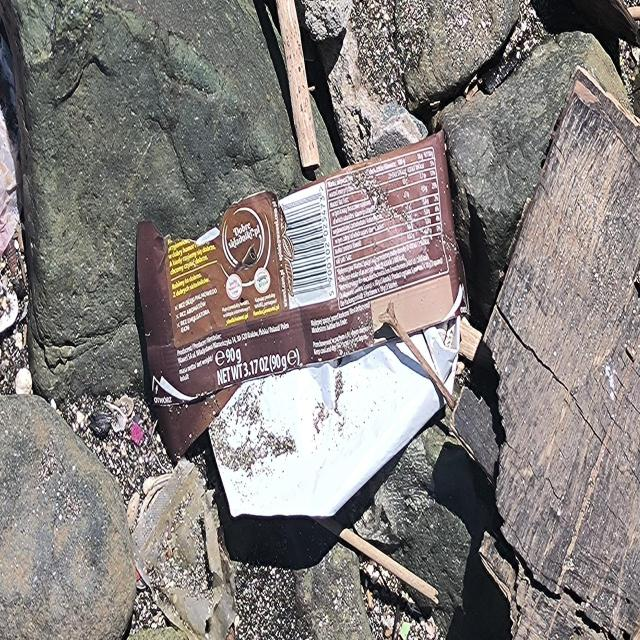plastic_waste: (135, 125, 473, 524)
